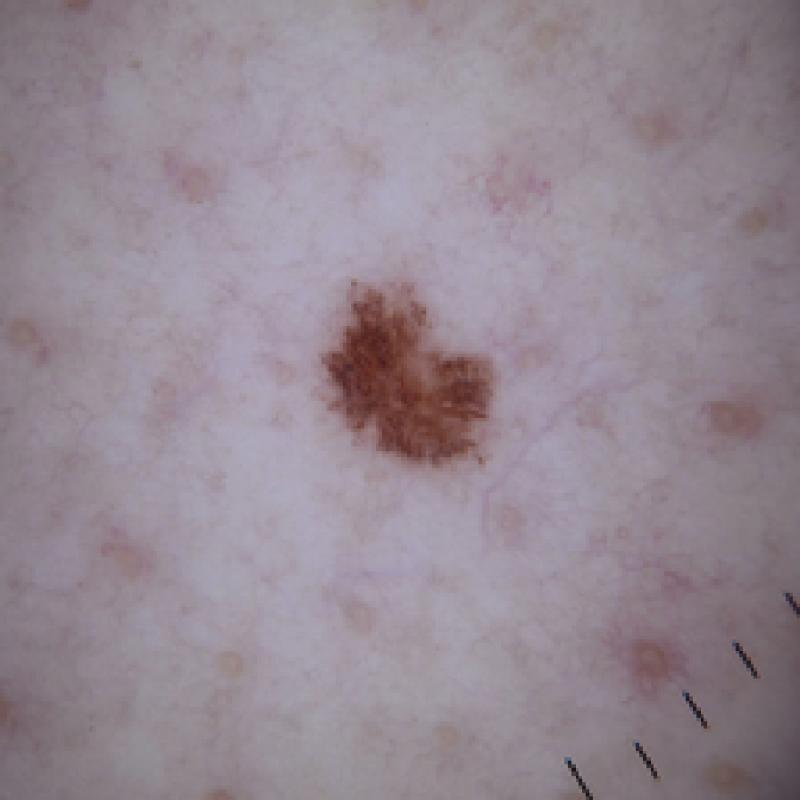benign: (301, 257, 525, 489)
